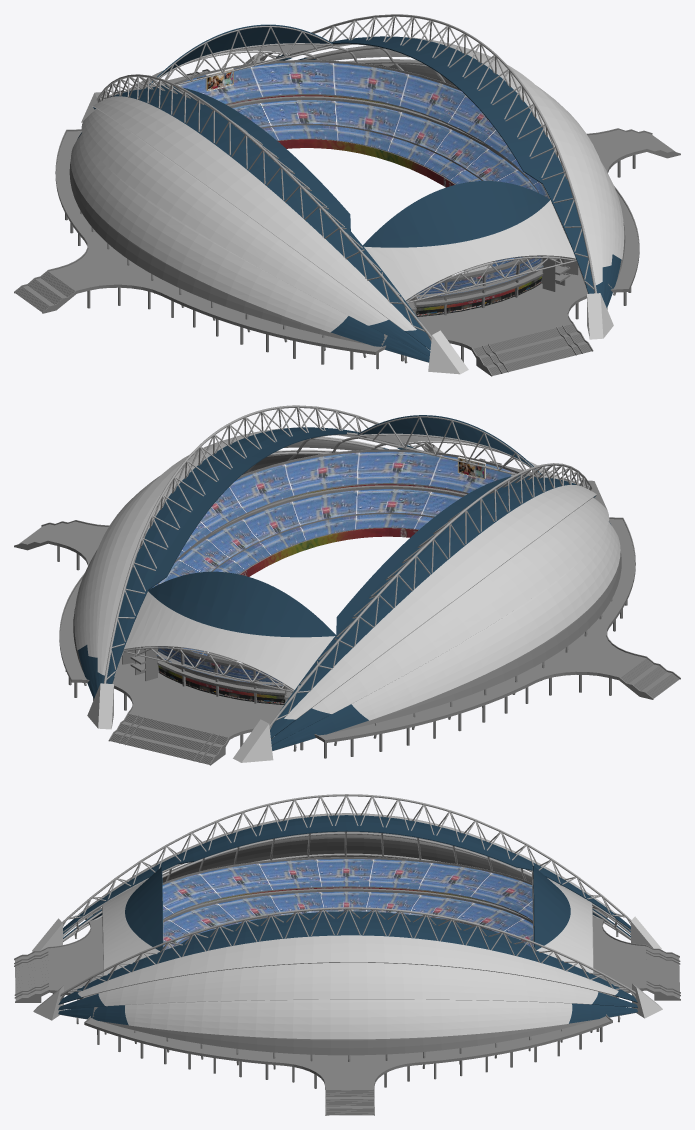
File: tyg100x100.fbx
3 renders of one model, top to bottom at view 1: azimuth 30°, elevation 25°; view 2: azimuth 150°, elevation 25°; view 3: azimuth 270°, elevation 25°, orthographic. The views are drawn at different scales.
Visible parts, largest first — view 1: 体育馆建筑外墙002, 体育馆窗户002, 体育馆002, 体育馆看台002, 体育馆框架002, 体育馆其他008, 体育馆其他009, 体育馆其他007, 体育馆广告牌002; view 2: 体育馆建筑外墙002, 体育馆窗户002, 体育馆002, 体育馆看台002, 体育馆框架002, 体育馆其他008, 体育馆其他009, 体育馆其他007, 体育馆广告牌002; view 3: 体育馆建筑外墙002, 体育馆窗户002, 体育馆002, 体育馆看台002, 体育馆框架002, 体育馆其他008.
Part boxes in pixels (x1=…): 体育馆建筑外墙002: x1=70, y1=36, x2=624, y2=374; 体育馆窗户002: x1=77, y1=24, x2=621, y2=362; 体育馆002: x1=14, y1=60, x2=680, y2=376; 体育馆看台002: x1=178, y1=62, x2=548, y2=297; 体育馆框架002: x1=80, y1=14, x2=615, y2=363; 体育馆其他008: x1=69, y1=64, x2=625, y2=346; 体育馆其他009: x1=227, y1=95, x2=454, y2=187; 体育馆其他007: x1=416, y1=276, x2=541, y2=316; 体育馆广告牌002: x1=205, y1=68, x2=491, y2=273; 体育馆建筑外墙002: x1=74, y1=427, x2=620, y2=762; 体育馆窗户002: x1=78, y1=415, x2=610, y2=750; 体育馆002: x1=14, y1=449, x2=680, y2=765; 体育馆看台002: x1=151, y1=451, x2=514, y2=685; 体育馆框架002: x1=84, y1=405, x2=612, y2=751; 体育馆其他008: x1=73, y1=454, x2=621, y2=733; 体育馆其他009: x1=240, y1=484, x2=467, y2=576; 体育馆其他007: x1=158, y1=665, x2=284, y2=704; 体育馆广告牌002: x1=209, y1=456, x2=485, y2=661; 体育馆建筑外墙002: x1=32, y1=813, x2=662, y2=1039; 体育馆窗户002: x1=58, y1=815, x2=637, y2=1025; 体育馆002: x1=14, y1=857, x2=680, y2=1115; 体育馆看台002: x1=162, y1=859, x2=533, y2=949; 体育馆框架002: x1=59, y1=794, x2=636, y2=1069; 体育馆其他008: x1=92, y1=838, x2=596, y2=1055.
Bounding box in the file's own units: 68.41 × 16.12 × 71.08.
